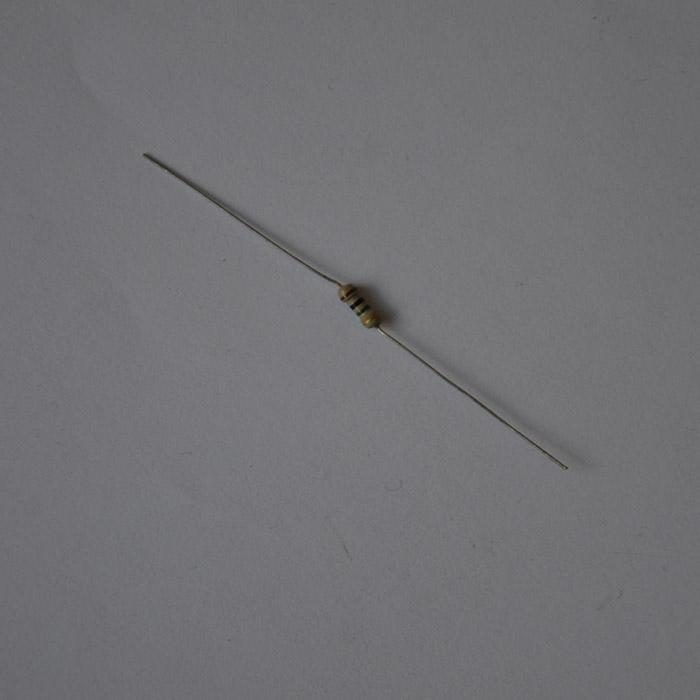resistor: (336, 281, 379, 330)
